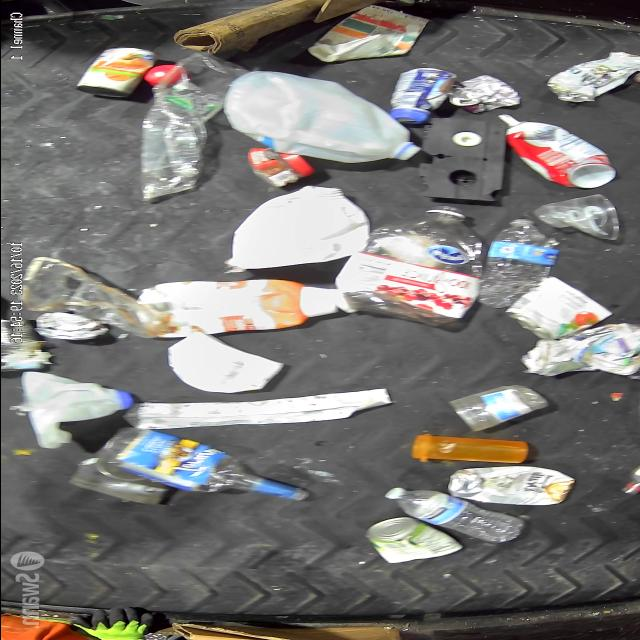can: (496, 119, 608, 183), (439, 462, 577, 511), (514, 324, 636, 374), (362, 512, 466, 568), (539, 49, 640, 103), (74, 42, 160, 96), (442, 70, 522, 116), (238, 148, 324, 190)
milk_jug: (220, 68, 418, 164), (12, 372, 146, 449)
plastic_bottle: (328, 205, 478, 328), (375, 485, 526, 551), (472, 213, 560, 309)
